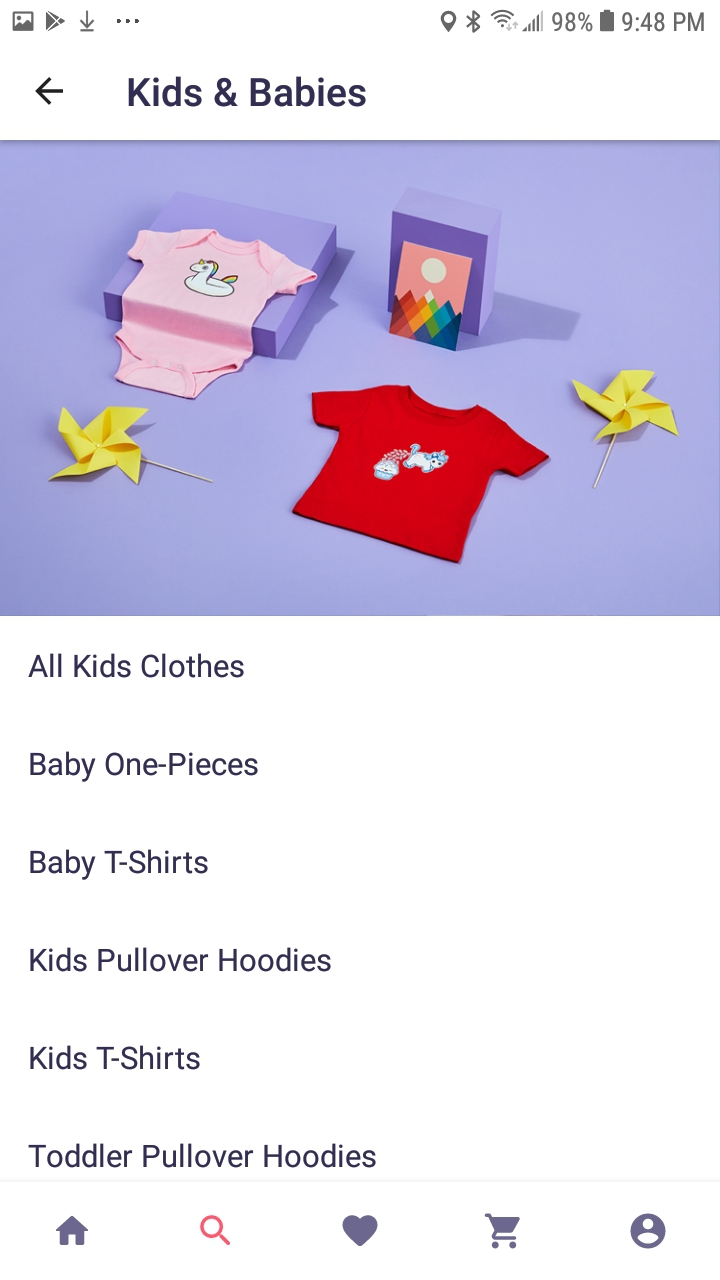Icon: (484, 1213, 521, 1249), (630, 1213, 666, 1249), (342, 1214, 379, 1246), (200, 1214, 231, 1246), (56, 1216, 90, 1245), (35, 77, 64, 106)
Image: (1, 141, 720, 617)
Text: (29, 1142, 377, 1169), (30, 947, 332, 973), (128, 76, 367, 108), (30, 751, 259, 783), (30, 848, 209, 881), (29, 653, 245, 679), (31, 1045, 201, 1071)
UpperTaskBar: (1, 1, 720, 35)
